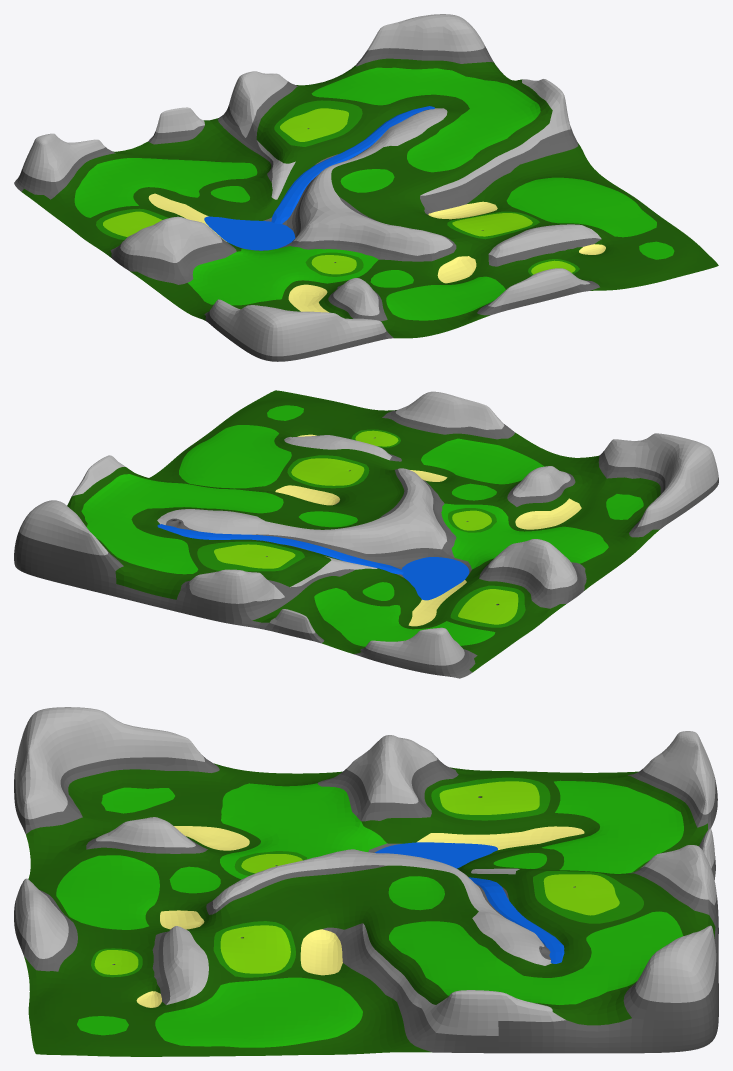
The model's file is map2.fbx.
3 views of the same model, one above another, from view 1: azimuth 30°, elevation 25°; view 2: azimuth 150°, elevation 25°; view 3: azimuth 270°, elevation 25° (orthographic). The views are drawn at different scales.
Visible parts, largest first — view 1: Base Course.005, Base Course.003, Base Course.007, Base Course.006, Base Course.002, Base Course.008, Base Course, Base Course.004; view 2: Base Course.005, Base Course.007, Base Course.003, Base Course.006, Base Course.002, Base Course.008, Base Course.004, Base Course; view 3: Base Course.005, Base Course.003, Base Course.007, Base Course.006, Base Course.002, Base Course, Base Course.004, Base Course.008.
Boxes of the visible parts, x1,y1,x2,y2 form: Base Course.005: [22, 58, 718, 338]; Base Course.003: [74, 67, 674, 320]; Base Course.007: [22, 14, 601, 356]; Base Course.006: [14, 45, 601, 361]; Base Course.002: [103, 108, 575, 274]; Base Course.008: [204, 106, 434, 250]; Base Course: [148, 193, 605, 312]; Base Course.004: [96, 100, 579, 276]; Base Course.005: [67, 390, 660, 672]; Base Course.007: [19, 391, 718, 665]; Base Course.003: [81, 405, 643, 646]; Base Course.006: [14, 410, 718, 678]; Base Course.002: [214, 430, 518, 624]; Base Course.008: [157, 524, 469, 600]; Base Course.004: [197, 429, 525, 627]; Base Course: [275, 434, 581, 626]; Base Course.005: [24, 763, 715, 1056]; Base Course.003: [56, 780, 683, 1047]; Base Course.007: [15, 707, 716, 1035]; Base Course.006: [14, 755, 718, 1053]; Base Course.002: [94, 781, 619, 974]; Base Course: [136, 826, 584, 1007]; Base Course.004: [91, 777, 643, 977]; Base Course.008: [375, 842, 564, 963].
Bounding box in the file's own units: 9873 × 1625 × 9880.
